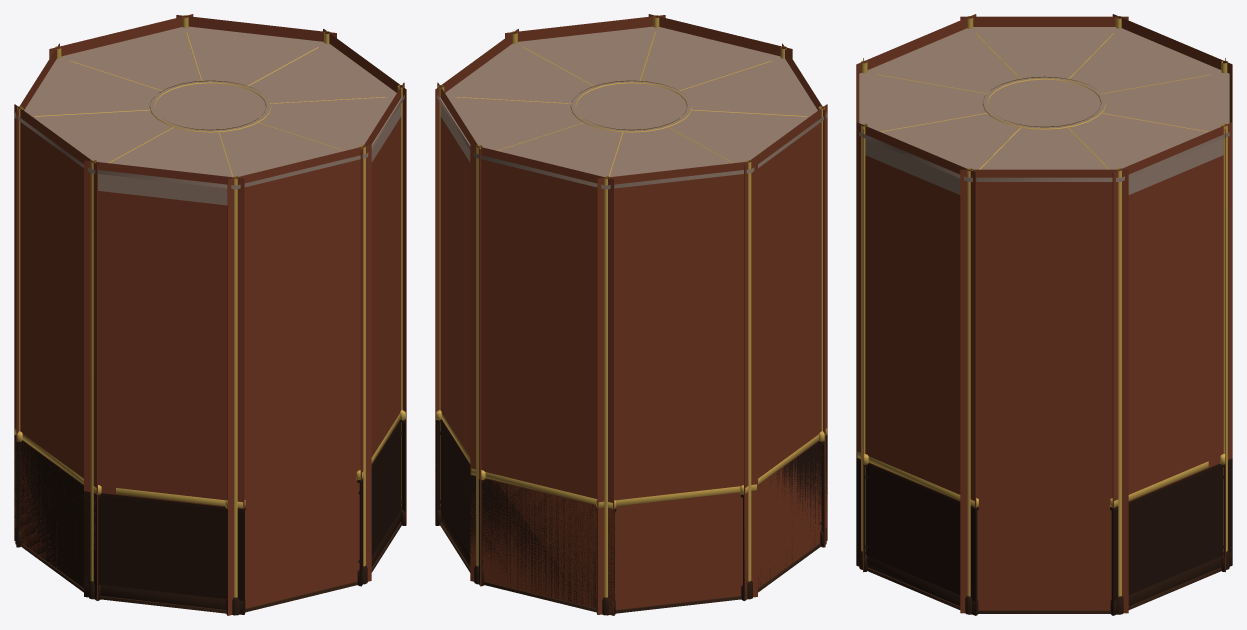
The model's file is stretch.glb.
The picture shows the model from 3 angles, left to right: view 1: azimuth 30°, elevation 25°; view 2: azimuth 150°, elevation 25°; view 3: azimuth 270°, elevation 25°; orthographic projection.
Visible parts, largest first — view 1: Str_facet7, Str_facet0, Str_upper, Str_facet6, Str_facet1, Str_facet2, Str_facet5, Str_facet3, Str_main, Str_facet4; view 2: Str_facet5, Str_facet4, Str_upper, Str_facet6, Str_facet3, Str_facet2, Str_facet7, Str_facet1, Str_main, Str_facet0; view 3: Str_facet2, Str_upper, Str_facet3, Str_facet1, Str_facet0, Str_facet6, Str_facet5, Str_facet7, Str_main, Str_facet4.
Part boxes in pixels (bbox=[...]): Str_facet7: bbox=[84, 160, 245, 615]; Str_facet0: bbox=[225, 144, 371, 615]; Str_upper: bbox=[14, 26, 404, 205]; Str_facet6: bbox=[14, 104, 101, 600]; Str_facet1: bbox=[356, 82, 404, 586]; Str_facet2: bbox=[323, 29, 406, 525]; Str_facet5: bbox=[15, 43, 59, 547]; Str_facet3: bbox=[176, 15, 336, 41]; Str_main: bbox=[21, 522, 401, 613]; Str_facet4: bbox=[49, 14, 193, 58]; Str_facet5: bbox=[596, 160, 757, 614]; Str_facet4: bbox=[470, 144, 616, 615]; Str_upper: bbox=[437, 26, 827, 189]; Str_facet6: bbox=[740, 104, 827, 600]; Str_facet3: bbox=[437, 82, 485, 586]; Str_facet2: bbox=[435, 29, 518, 525]; Str_facet7: bbox=[780, 43, 825, 547]; Str_facet1: bbox=[505, 15, 665, 43]; Str_main: bbox=[440, 522, 820, 613]; Str_facet0: bbox=[648, 14, 792, 58]; Str_facet2: bbox=[960, 168, 1128, 614]; Str_upper: bbox=[859, 27, 1229, 194]; Str_facet3: bbox=[1110, 122, 1232, 615]; Str_facet1: bbox=[856, 122, 978, 615]; Str_facet0: bbox=[859, 58, 868, 572]; Str_facet6: bbox=[960, 16, 1128, 28]; Str_facet5: bbox=[1112, 14, 1232, 122]; Str_facet7: bbox=[856, 14, 976, 122]; Str_main: bbox=[867, 567, 1221, 613]; Str_facet4: bbox=[1220, 58, 1227, 572].
Bounding box in the file's own units: 5.08 × 6.6 × 5.08.
